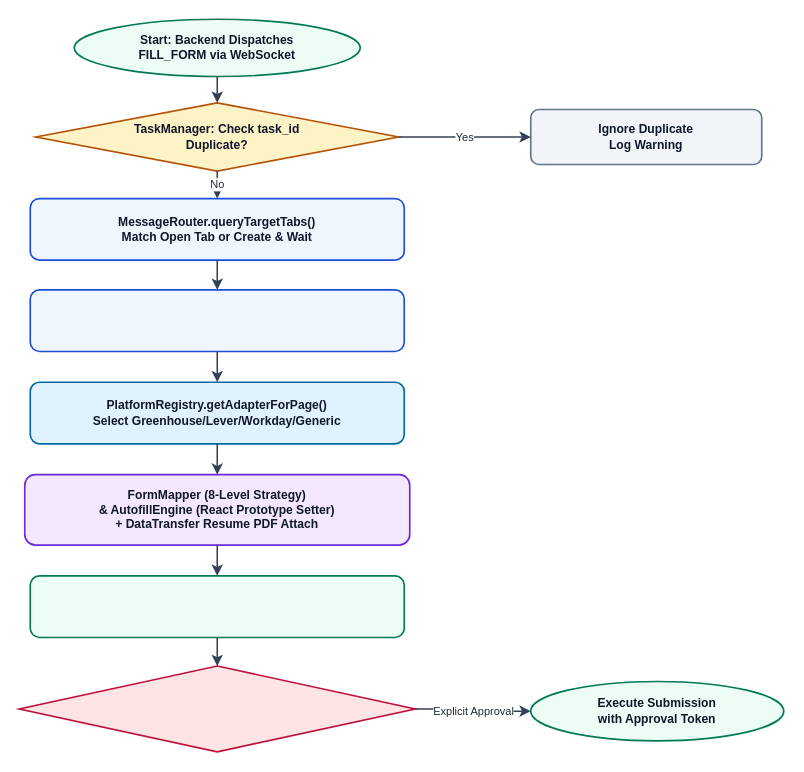
The diagram is 804 pixels wide and 772 high, and some of its shapes have lost their labels. Here are the shapes that lost their labels. From the top down, the centre of each, then its label:
At point (217, 320): "sendTabMessageWithRetry() Inject content.js (Max 6 Retries)".
At point (217, 606): "SubmissionEngine.generatePreview() Emit FORM_FILLED & APPLICATION_READY".
At point (217, 708): "SECURITY APPROVAL GATE: User Reviewed & Approved? (Never Auto-Submits)".
